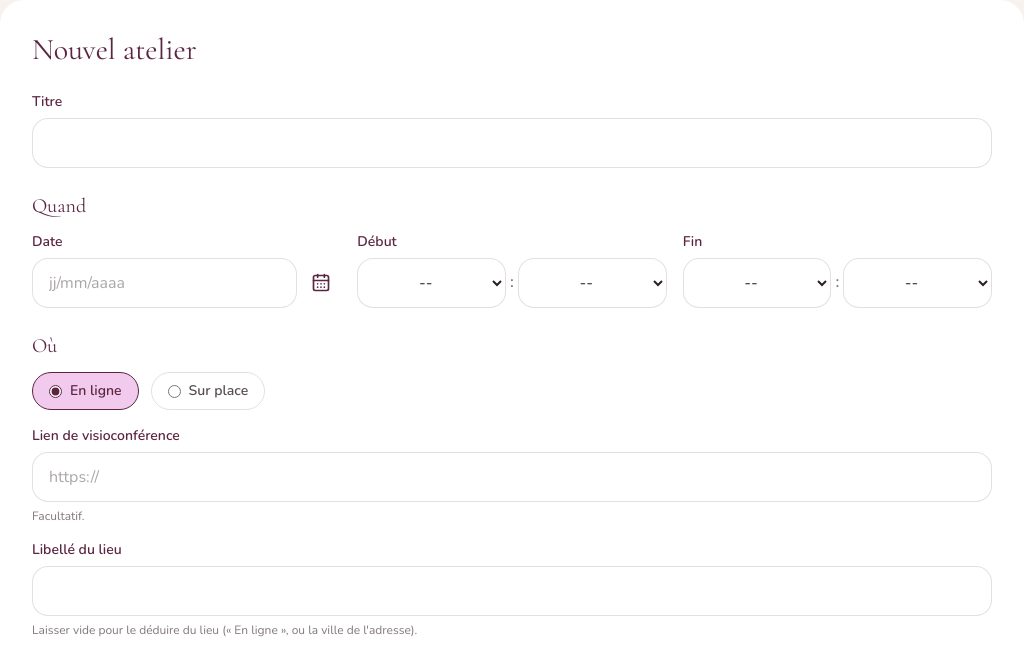
EventForm › asks for a saved address only for an on-site workshop
Expected: the field labelled "Lien de visioconférence" is shown, left=32, top=452, right=992, bottom=502
Click the radio button labelled "Sur place": (174, 391) left=168, top=384, right=181, bottom=398
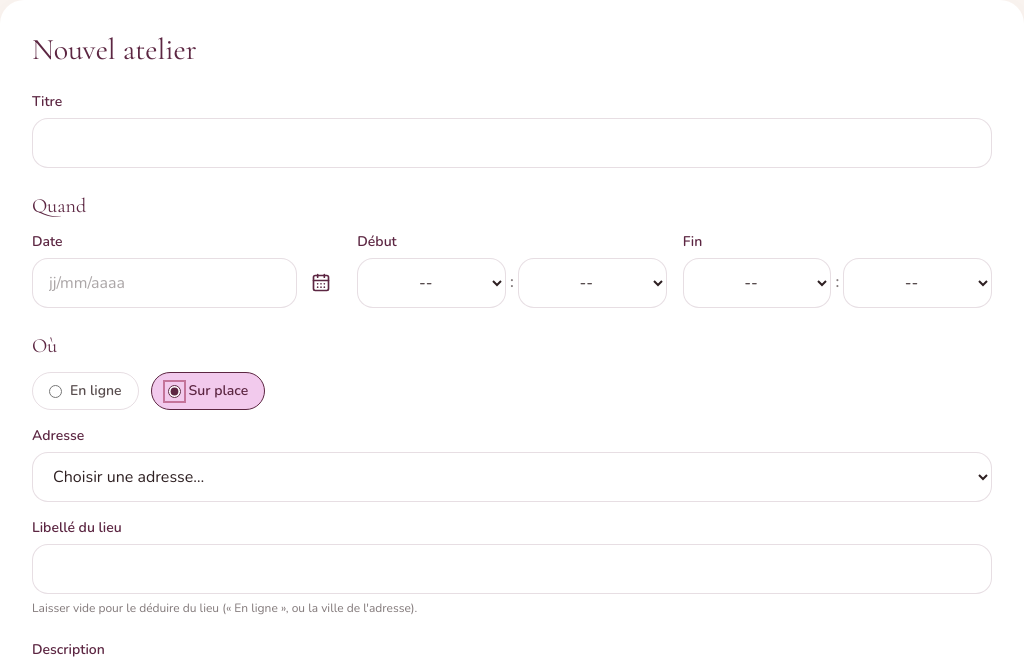
Result: the dropdown labelled "Adresse" is shown at left=32, top=452, right=992, bottom=502
Result: the label labelled "Lien de visioconférence" is gone
